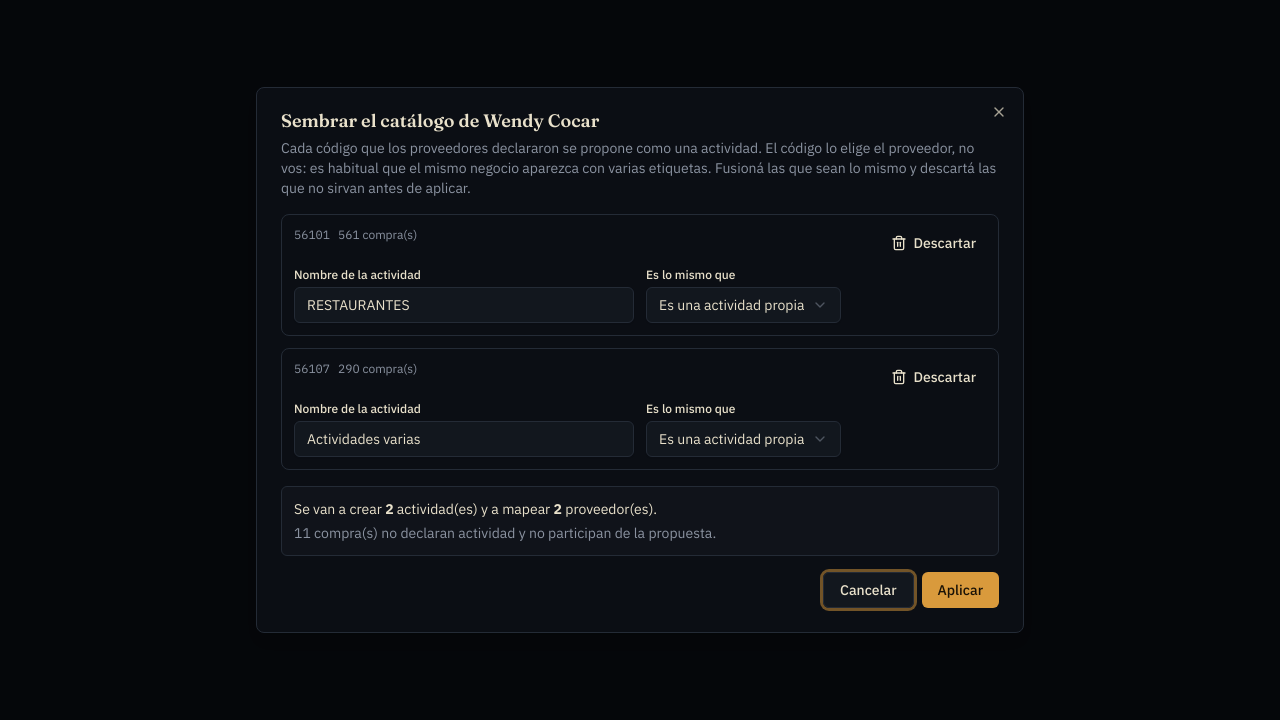
it: ActivitySeedDialog › no deja aplicar si se descartó todo: no hay nada que sembrar
The width and height of the screenshot is (1280, 720).
Expected: the field showing "RESTAURANTES" below "56101" is shown, left=294, top=287, right=634, bottom=323
Click the button with aria-label "Descartar RESTAURANTES" at (934, 243), box left=881, top=227, right=986, bottom=259
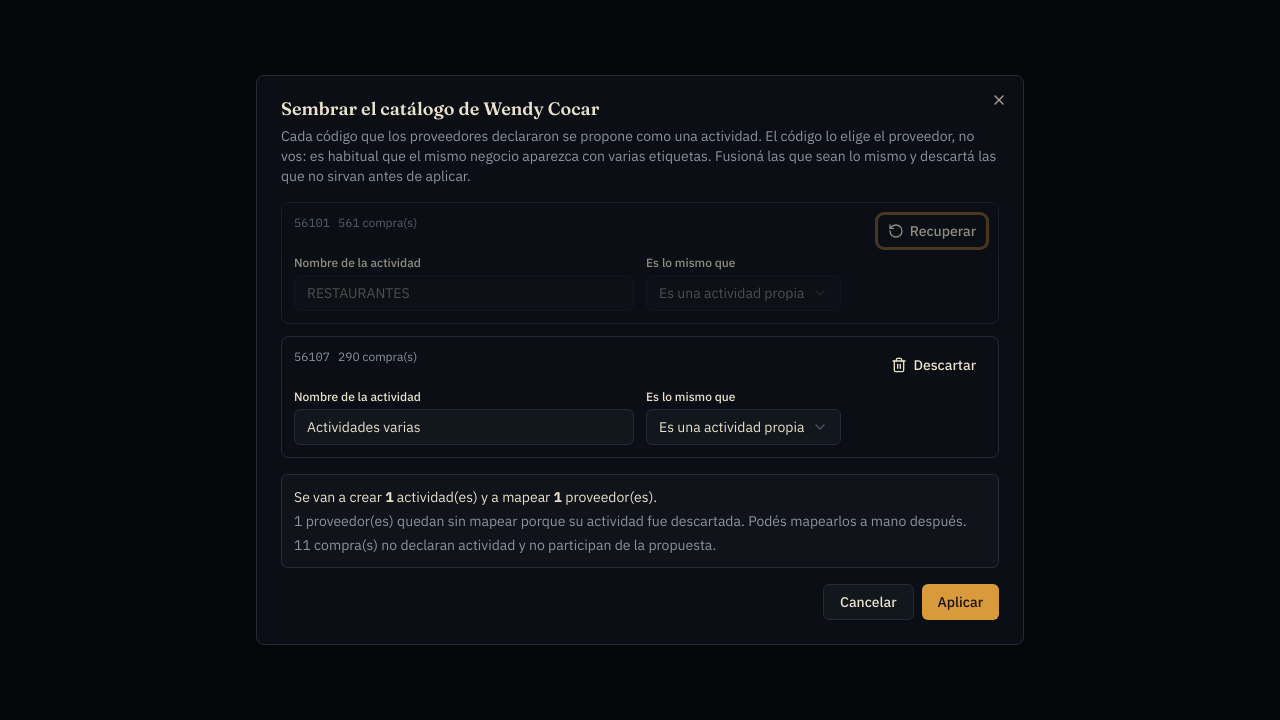
Click the button with aria-label "Descartar Actividades varias" at (934, 365), box left=881, top=349, right=986, bottom=381
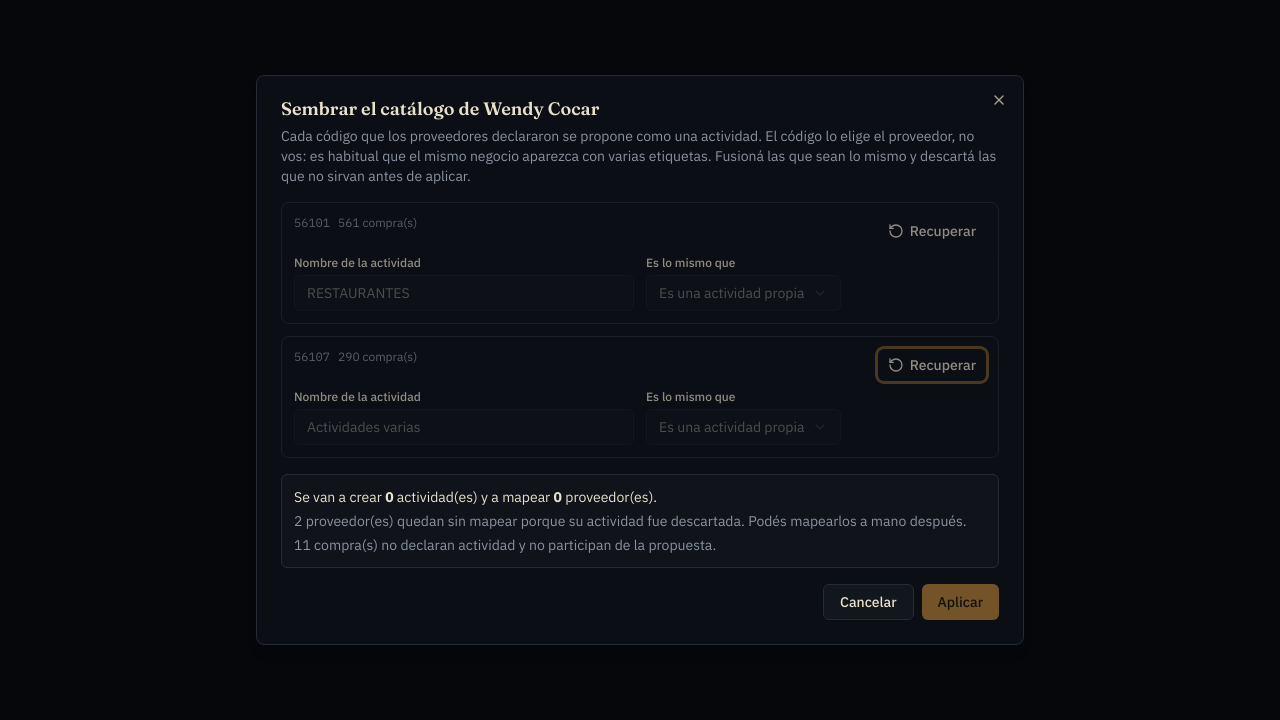
Result: the button "Aplicar" is disabled at left=922, top=584, right=999, bottom=620
